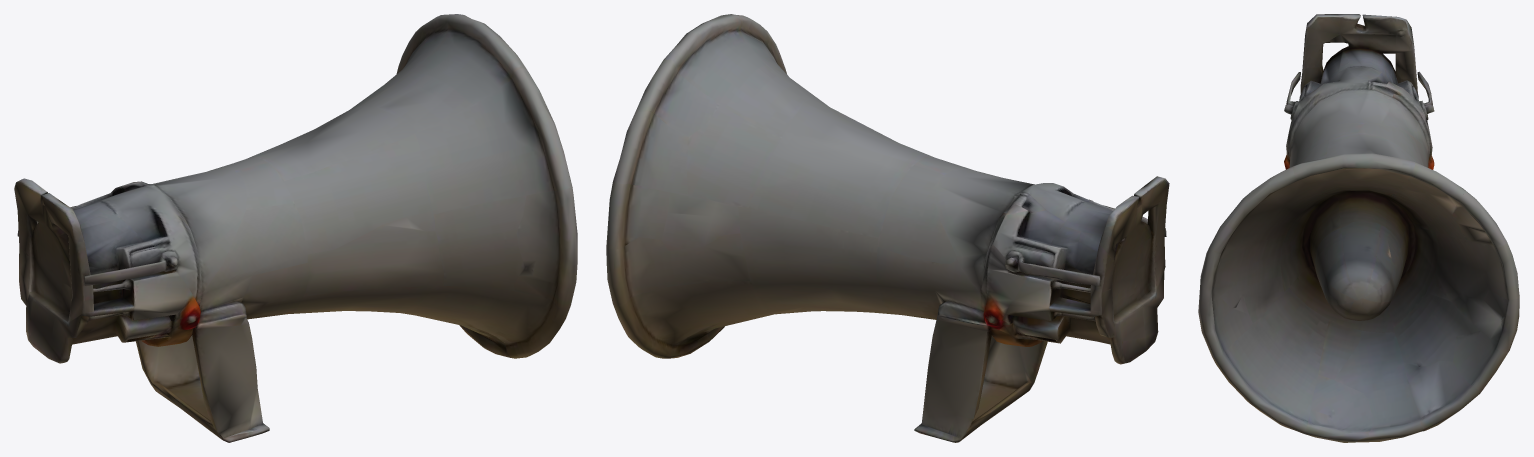
File: speaker-horn.glb
The picture shows the model from 3 angles, left to right: view 1: azimuth 30°, elevation 25°; view 2: azimuth 150°, elevation 25°; view 3: azimuth 270°, elevation 25°; orthographic projection. The views are drawn at different scales.
Parts seen in each view (by area): view 1: tripo_node_e36da5c2-f165-4371-a309-a30d2a2f2efa; view 2: tripo_node_e36da5c2-f165-4371-a309-a30d2a2f2efa; view 3: tripo_node_e36da5c2-f165-4371-a309-a30d2a2f2efa.
Part boxes in pixels (left/top/right/bottom): tripo_node_e36da5c2-f165-4371-a309-a30d2a2f2efa: left=14, top=14, right=577, bottom=442; tripo_node_e36da5c2-f165-4371-a309-a30d2a2f2efa: left=606, top=14, right=1169, bottom=442; tripo_node_e36da5c2-f165-4371-a309-a30d2a2f2efa: left=1198, top=14, right=1519, bottom=442.
Size of the model in its own units: 0.9993 by 0.6765 by 0.6827.
1 material, 1 textured.
